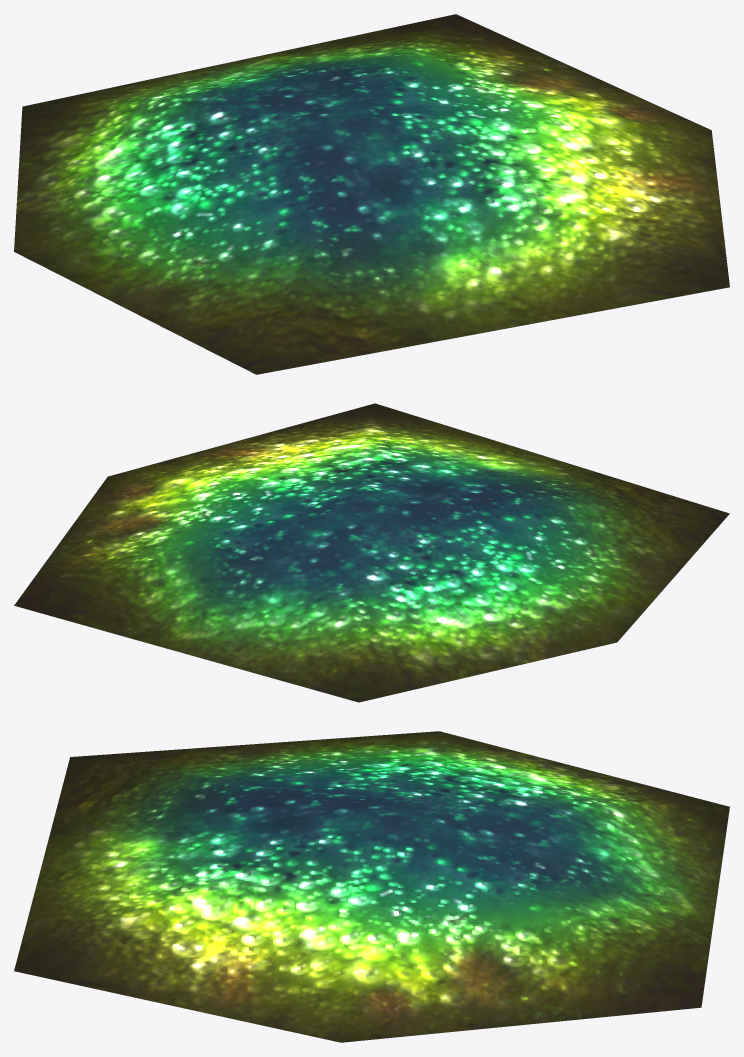
File: moalg01.FBX
3 views of the same model, one above another, from view 1: azimuth 30°, elevation 25°; view 2: azimuth 150°, elevation 25°; view 3: azimuth 270°, elevation 25° (orthographic). The views are drawn at different scales.
Parts seen in each view (by area): view 1: moalg01__2g; view 2: moalg01__2g; view 3: moalg01__2g.
Part boxes in pixels (left/top/right/bottom): moalg01__2g: left=14, top=14, right=729, bottom=374; moalg01__2g: left=14, top=403, right=729, bottom=702; moalg01__2g: left=14, top=731, right=729, bottom=1042.
Size of the model in its own units: 15.21 by 1.51 by 14.78.
